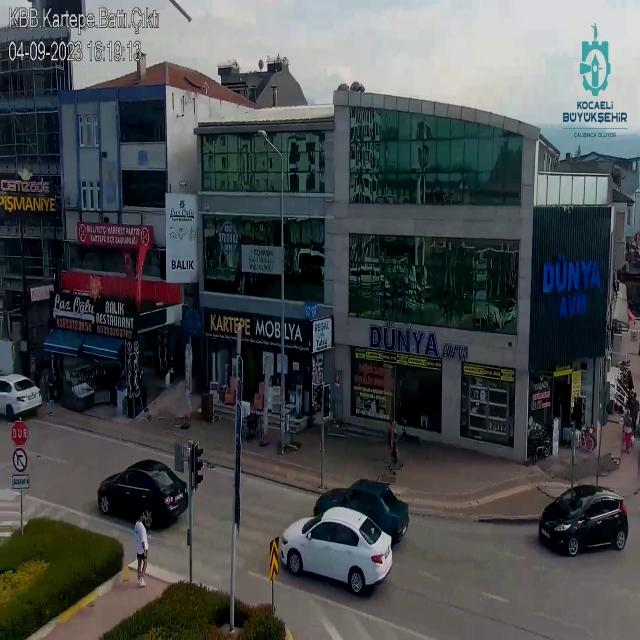Car: (278, 509, 394, 594), (98, 458, 192, 528), (538, 486, 630, 554), (312, 478, 410, 530)
